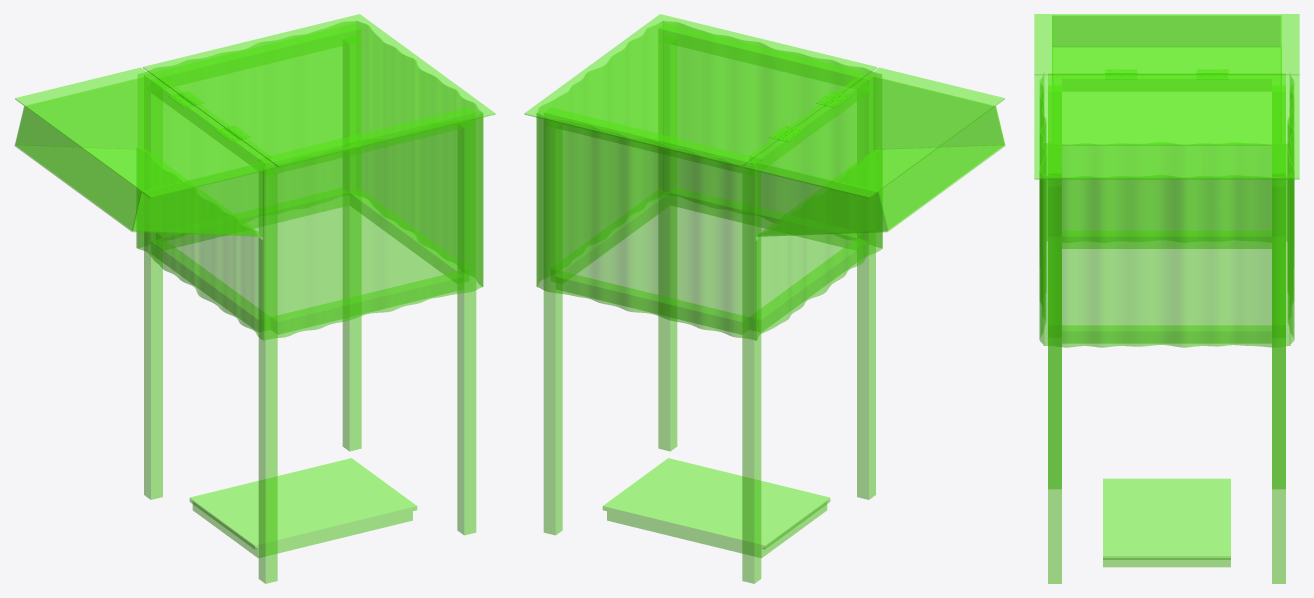
Rendered from justin.glb.
3 views of the same model, side by side, from view 1: azimuth 30°, elevation 25°; view 2: azimuth 150°, elevation 25°; view 3: azimuth 270°, elevation 25° (orthographic). The views are drawn at different scales.
Parts seen in each view (by area): view 1: 46031cba-e92d-4538-948f-7628de22587f, 391dfd2c-3bd2-4a4f-ad22-70144e992afc, 209fc8d6-5614-43a2-b70a-f80f9b26d4e0, 1afe0418-718b-4f81-8870-b99d827933dd, 731b9583-d7ac-415a-ab19-7b0ce2083927, 0669aa25-f8e5-48fe-a0ae-90cb71152d8c, 09af2349-4893-431c-99b7-7d9957cc20ae, 87628e60-98da-4d43-8e32-364471e7e0be, 09c5aa95-09d2-4551-9375-4b4d2530a70e, c5ec63f6-a823-44e3-bdca-250a6f4645d1, de14c6c8-ebd3-4f35-8d18-71da71218a56; view 2: 46031cba-e92d-4538-948f-7628de22587f, 1afe0418-718b-4f81-8870-b99d827933dd, 209fc8d6-5614-43a2-b70a-f80f9b26d4e0, 391dfd2c-3bd2-4a4f-ad22-70144e992afc, 731b9583-d7ac-415a-ab19-7b0ce2083927, 0669aa25-f8e5-48fe-a0ae-90cb71152d8c, 09af2349-4893-431c-99b7-7d9957cc20ae, 87628e60-98da-4d43-8e32-364471e7e0be, c5ec63f6-a823-44e3-bdca-250a6f4645d1, 09c5aa95-09d2-4551-9375-4b4d2530a70e, de14c6c8-ebd3-4f35-8d18-71da71218a56; view 3: 0669aa25-f8e5-48fe-a0ae-90cb71152d8c, 46031cba-e92d-4538-948f-7628de22587f, 209fc8d6-5614-43a2-b70a-f80f9b26d4e0, 87628e60-98da-4d43-8e32-364471e7e0be, 09af2349-4893-431c-99b7-7d9957cc20ae, 731b9583-d7ac-415a-ab19-7b0ce2083927, de14c6c8-ebd3-4f35-8d18-71da71218a56, 1afe0418-718b-4f81-8870-b99d827933dd, 391dfd2c-3bd2-4a4f-ad22-70144e992afc.
Part boxes in pixels (box(x1,y1,x2,y2)): 46031cba-e92d-4538-948f-7628de22587f: box(144, 24, 476, 583); 391dfd2c-3bd2-4a4f-ad22-70144e992afc: box(263, 113, 482, 340); 209fc8d6-5614-43a2-b70a-f80f9b26d4e0: box(143, 14, 495, 167); 1afe0418-718b-4f81-8870-b99d827933dd: box(138, 21, 356, 247); 731b9583-d7ac-415a-ab19-7b0ce2083927: box(15, 67, 276, 198); 0669aa25-f8e5-48fe-a0ae-90cb71152d8c: box(357, 21, 483, 286); 09af2349-4893-431c-99b7-7d9957cc20ae: box(14, 145, 263, 236); 87628e60-98da-4d43-8e32-364471e7e0be: box(136, 231, 263, 339); 09c5aa95-09d2-4551-9375-4b4d2530a70e: box(132, 162, 263, 235); c5ec63f6-a823-44e3-bdca-250a6f4645d1: box(15, 76, 146, 149); de14c6c8-ebd3-4f35-8d18-71da71218a56: box(15, 106, 142, 230); 46031cba-e92d-4538-948f-7628de22587f: box(543, 24, 875, 583); 1afe0418-718b-4f81-8870-b99d827933dd: box(537, 113, 756, 340); 209fc8d6-5614-43a2-b70a-f80f9b26d4e0: box(524, 14, 876, 167); 391dfd2c-3bd2-4a4f-ad22-70144e992afc: box(663, 21, 881, 247); 731b9583-d7ac-415a-ab19-7b0ce2083927: box(743, 67, 1004, 198); 0669aa25-f8e5-48fe-a0ae-90cb71152d8c: box(536, 21, 662, 286); 09af2349-4893-431c-99b7-7d9957cc20ae: box(756, 145, 1005, 236); 87628e60-98da-4d43-8e32-364471e7e0be: box(755, 231, 882, 340); c5ec63f6-a823-44e3-bdca-250a6f4645d1: box(756, 162, 887, 235); 09c5aa95-09d2-4551-9375-4b4d2530a70e: box(873, 76, 1004, 149); de14c6c8-ebd3-4f35-8d18-71da71218a56: box(878, 106, 1004, 229); 0669aa25-f8e5-48fe-a0ae-90cb71152d8c: box(1043, 175, 1290, 347); 46031cba-e92d-4538-948f-7628de22587f: box(1048, 69, 1285, 583); 209fc8d6-5614-43a2-b70a-f80f9b26d4e0: box(1034, 75, 1299, 179); 87628e60-98da-4d43-8e32-364471e7e0be: box(1046, 143, 1287, 241); 09af2349-4893-431c-99b7-7d9957cc20ae: box(1053, 47, 1280, 145); 731b9583-d7ac-415a-ab19-7b0ce2083927: box(1034, 14, 1299, 74); de14c6c8-ebd3-4f35-8d18-71da71218a56: box(1052, 15, 1280, 46); 1afe0418-718b-4f81-8870-b99d827933dd: box(1287, 74, 1294, 344); 391dfd2c-3bd2-4a4f-ad22-70144e992afc: box(1039, 74, 1046, 344).
Size of the model in its own units: 874 by 996 by 580.
